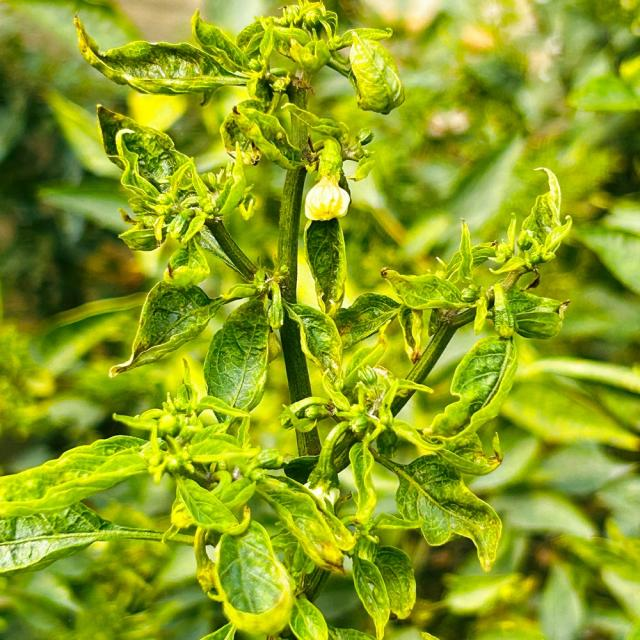Chilli_Leaf_Curl: (1, 1, 574, 638), (77, 104, 294, 287), (105, 372, 288, 556), (50, 7, 360, 102), (303, 346, 406, 513), (416, 304, 537, 439), (346, 28, 405, 115)
